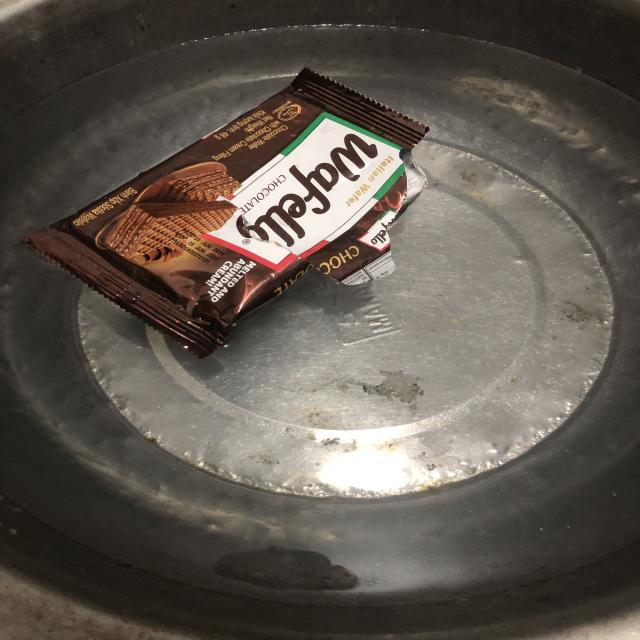Plastic Wrapper: (24, 68, 429, 357)
